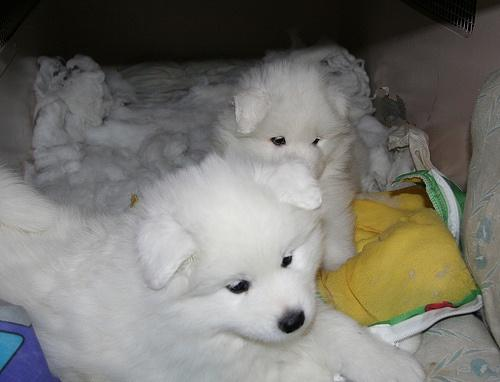tampered: (380, 88, 434, 126)
